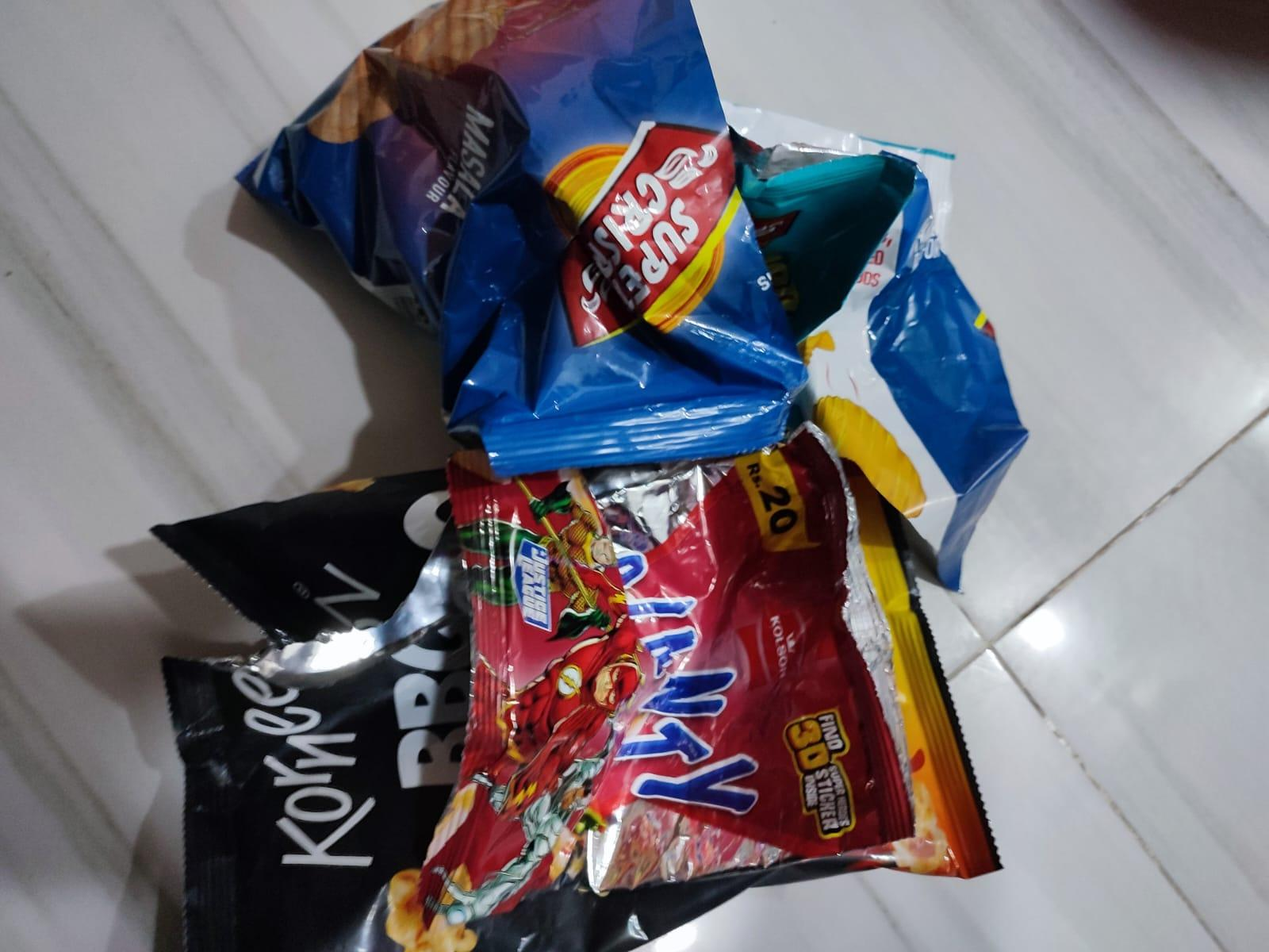garbage: (29, 0, 1031, 942)
